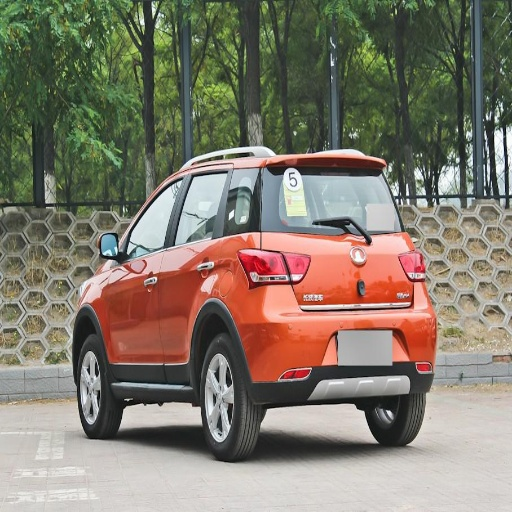back_bumper: (243, 300, 432, 398)
back_glass: (281, 170, 399, 230)
back_left_door: (162, 168, 228, 380)
trunk: (273, 234, 411, 328)
